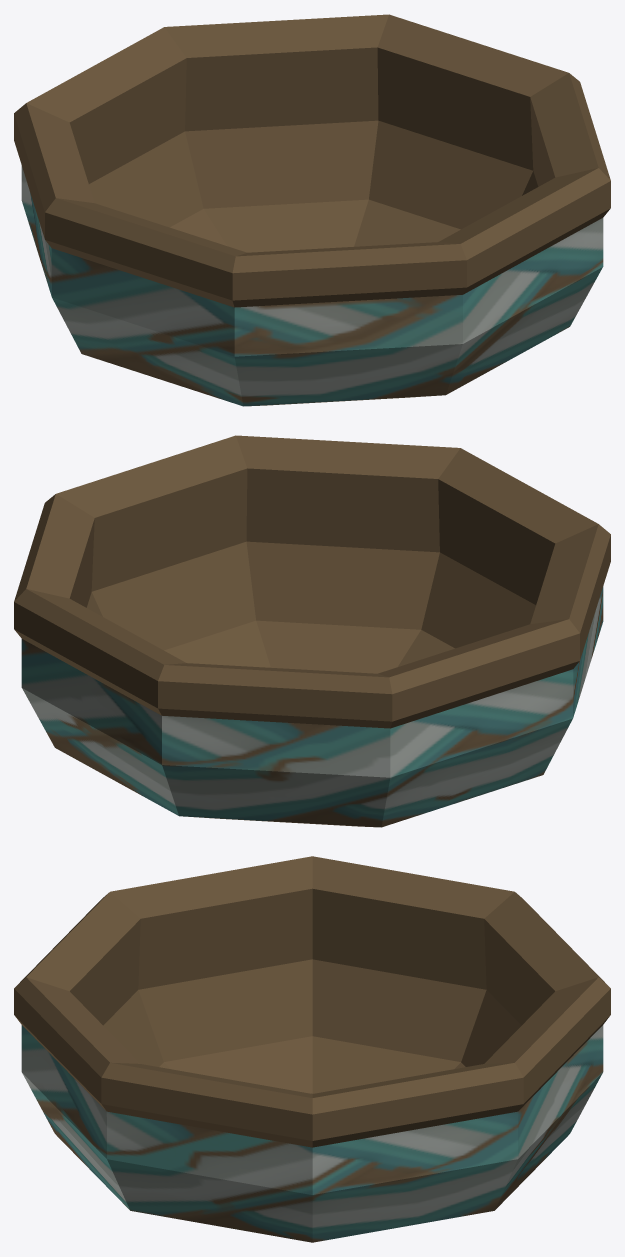
The model's file is SM_Prop_Bowl_02.fbx.
3 renders of one model, top to bottom at view 1: azimuth 30°, elevation 25°; view 2: azimuth 150°, elevation 25°; view 3: azimuth 270°, elevation 25°, orthographic. The views are drawn at different scales.
Parts seen in each view (by area): view 1: SM_Prop_Bowl_02; view 2: SM_Prop_Bowl_02; view 3: SM_Prop_Bowl_02.
Part boxes in pixels (x1,y1,x2,y2): SM_Prop_Bowl_02: (14,14,610,406); SM_Prop_Bowl_02: (14,435,610,827); SM_Prop_Bowl_02: (14,856,610,1242).
Size of the model in its own units: 52.52 by 19.46 by 52.52.
